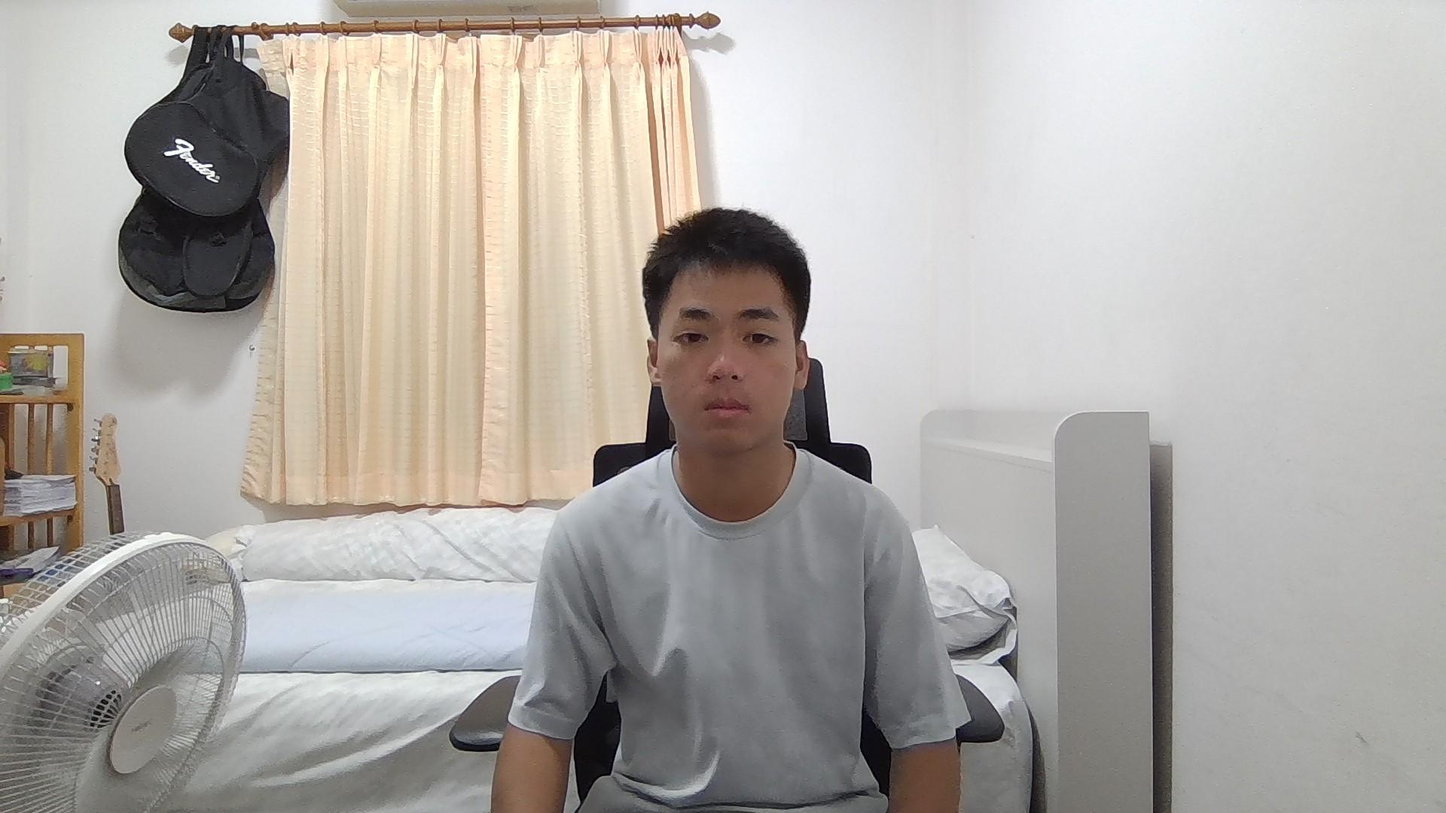GoodPosture: (492, 209, 971, 812)
